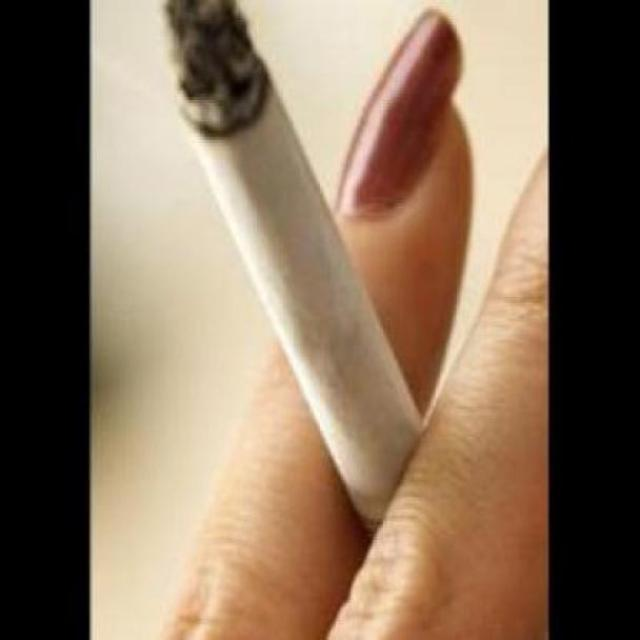rokok: (152, 0, 432, 520)
